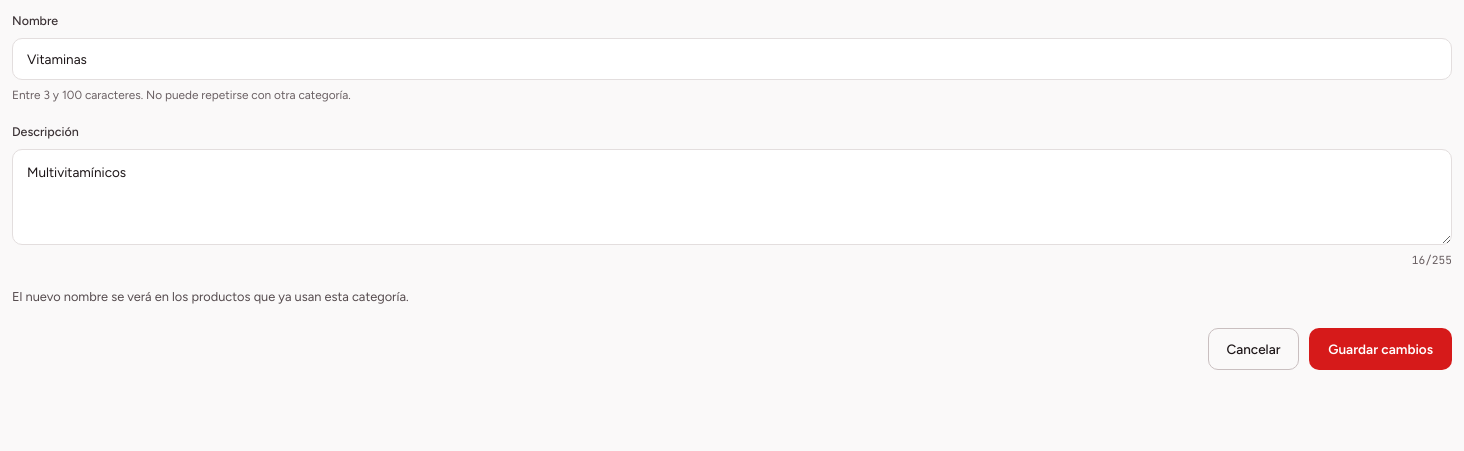
EditCategoryForm › shows the api error ({"name":"ApiError","status":404})
Replace the text in the text box labelled "Descripción" with "Nueva descripción" at (732, 197), box left=12, top=149, right=1452, bottom=245
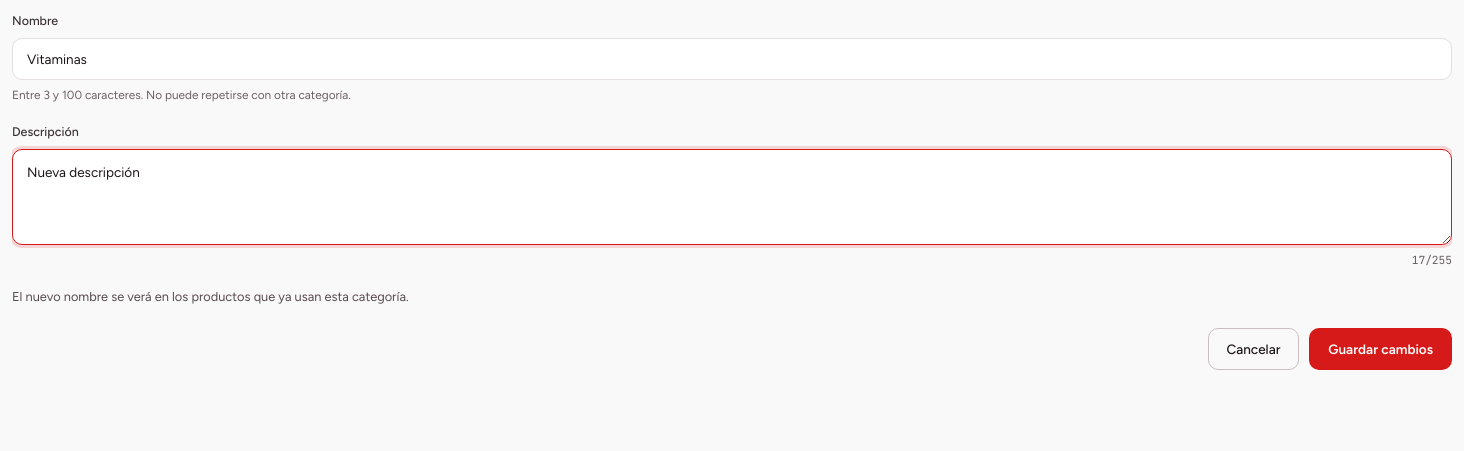
Click the button "Guardar cambios" at (1381, 349), box left=1309, top=328, right=1452, bottom=370
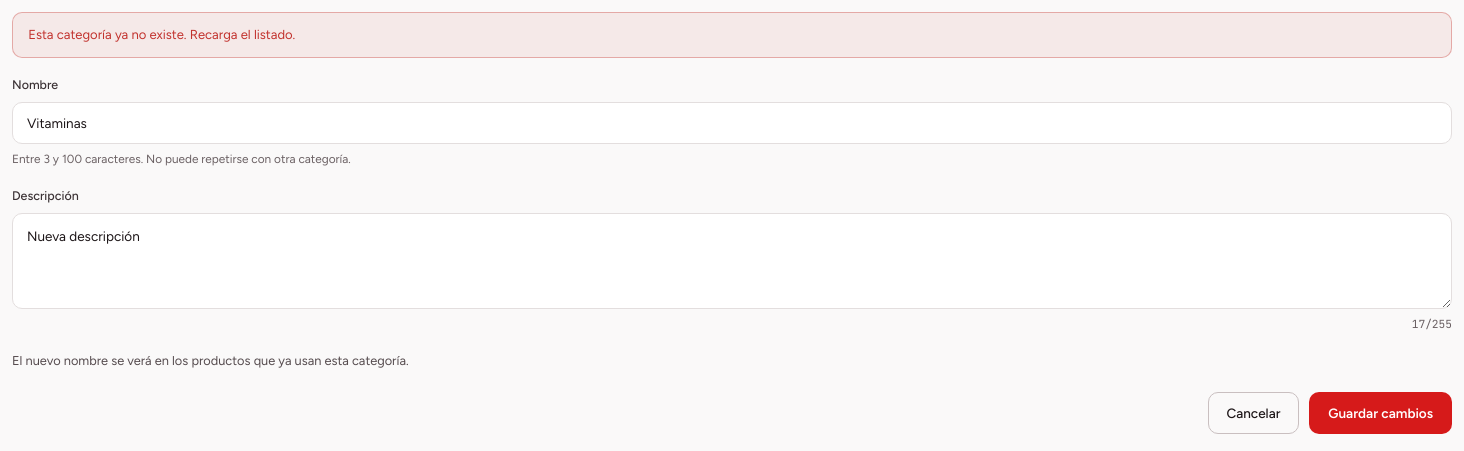
Now the message reads "Esta categoría ya no existe. Recarga el listado.", box left=28, top=27, right=295, bottom=42
